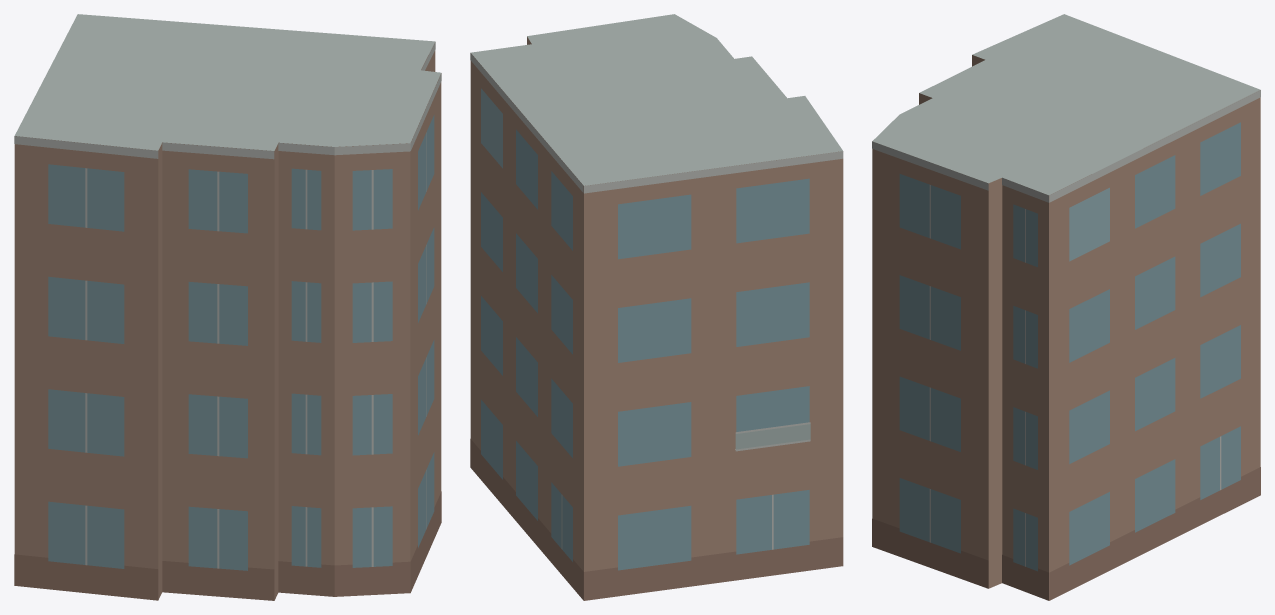
Rendered from survey-upis-33012950.glb.
3 renders of one model, left to right at view 1: azimuth 30°, elevation 25°; view 2: azimuth 150°, elevation 25°; view 3: azimuth 270°, elevation 25°, orthographic. The views are drawn at different scales.
Visible parts, largest first — view 1: survey-upis-33012950.tmp; view 2: survey-upis-33012950.tmp; view 3: survey-upis-33012950.tmp.
Part boxes in pixels (x1,y1,x2,y2): survey-upis-33012950.tmp: (14,14,441,600); survey-upis-33012950.tmp: (470,14,843,600); survey-upis-33012950.tmp: (872,14,1260,600).
Size of the model in its own units: 12.77 by 13.3 by 11.56.
